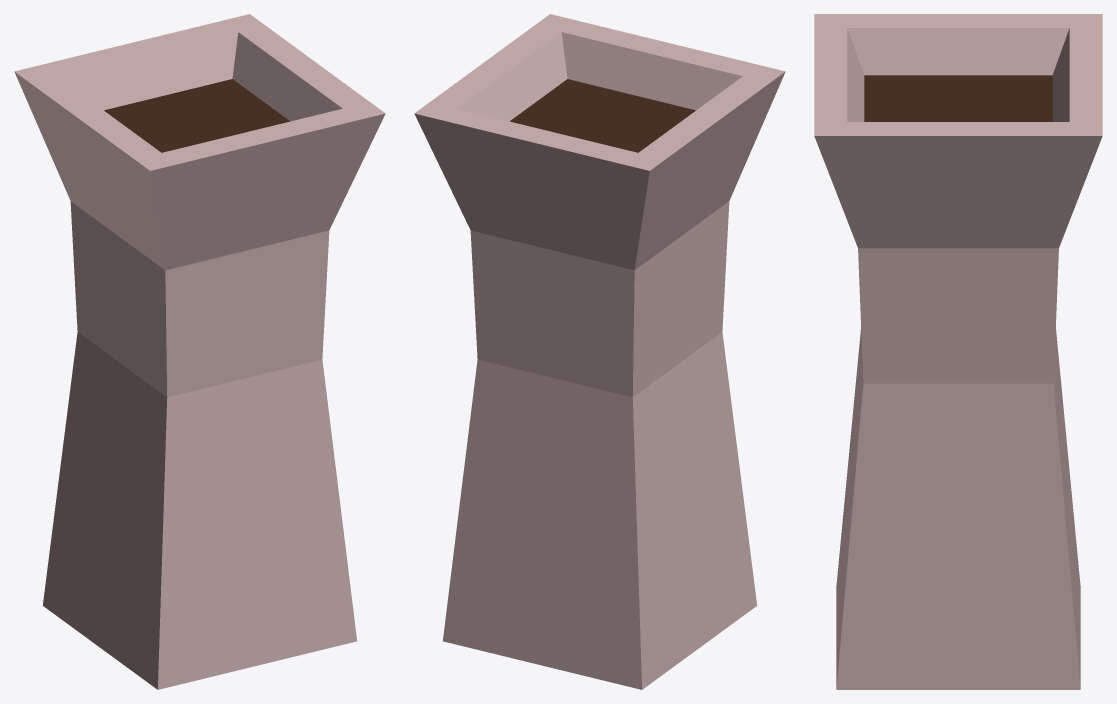
Rendered from flower_pot_long2.fbx.
3 views of the same model, side by side, from view 1: azimuth 30°, elevation 25°; view 2: azimuth 150°, elevation 25°; view 3: azimuth 270°, elevation 25° (orthographic). The views are drawn at different scales.
Parts seen in each view (by area): view 1: flower_pot_long2; view 2: flower_pot_long2; view 3: flower_pot_long2.
Part boxes in pixels (x1,y1,x2,y2): flower_pot_long2: (14,14,385,689); flower_pot_long2: (414,14,785,689); flower_pot_long2: (814,14,1102,689).
Bounding box in the file's own units: 41.89 × 41.89 × 90.26.
